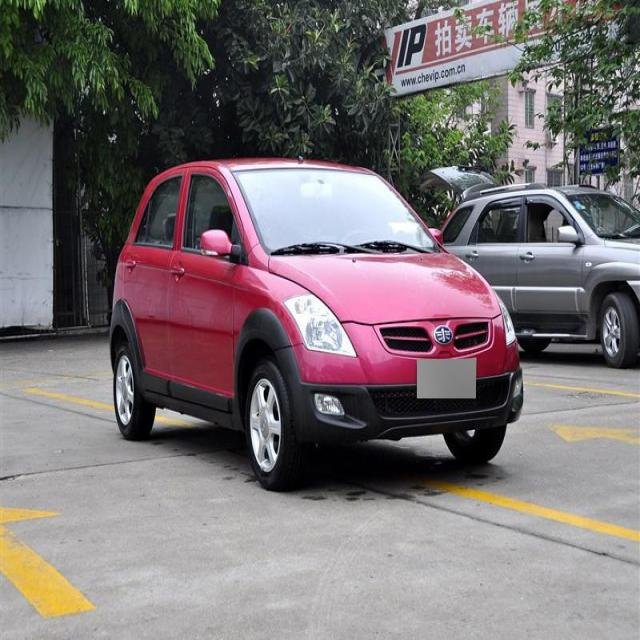door: (123, 166, 187, 401)
front_bumper: (272, 319, 526, 445)
front_glass: (231, 167, 441, 254)
front_left_side_light: (492, 286, 518, 348)
front_left_side_mirror: (428, 226, 445, 250)
front_right_side_door: (166, 164, 246, 420)
front_right_side_light: (282, 290, 358, 359)
front_right_side_mirror: (200, 228, 233, 261)
wheel: (246, 362, 298, 487), (114, 344, 154, 440)
